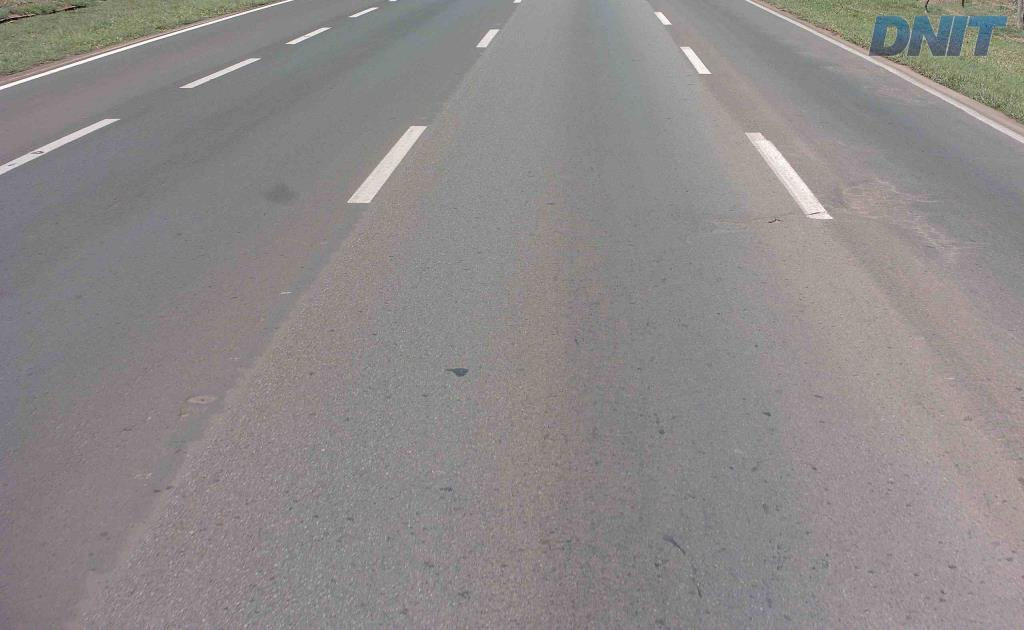pothole: (764, 215, 785, 226)
